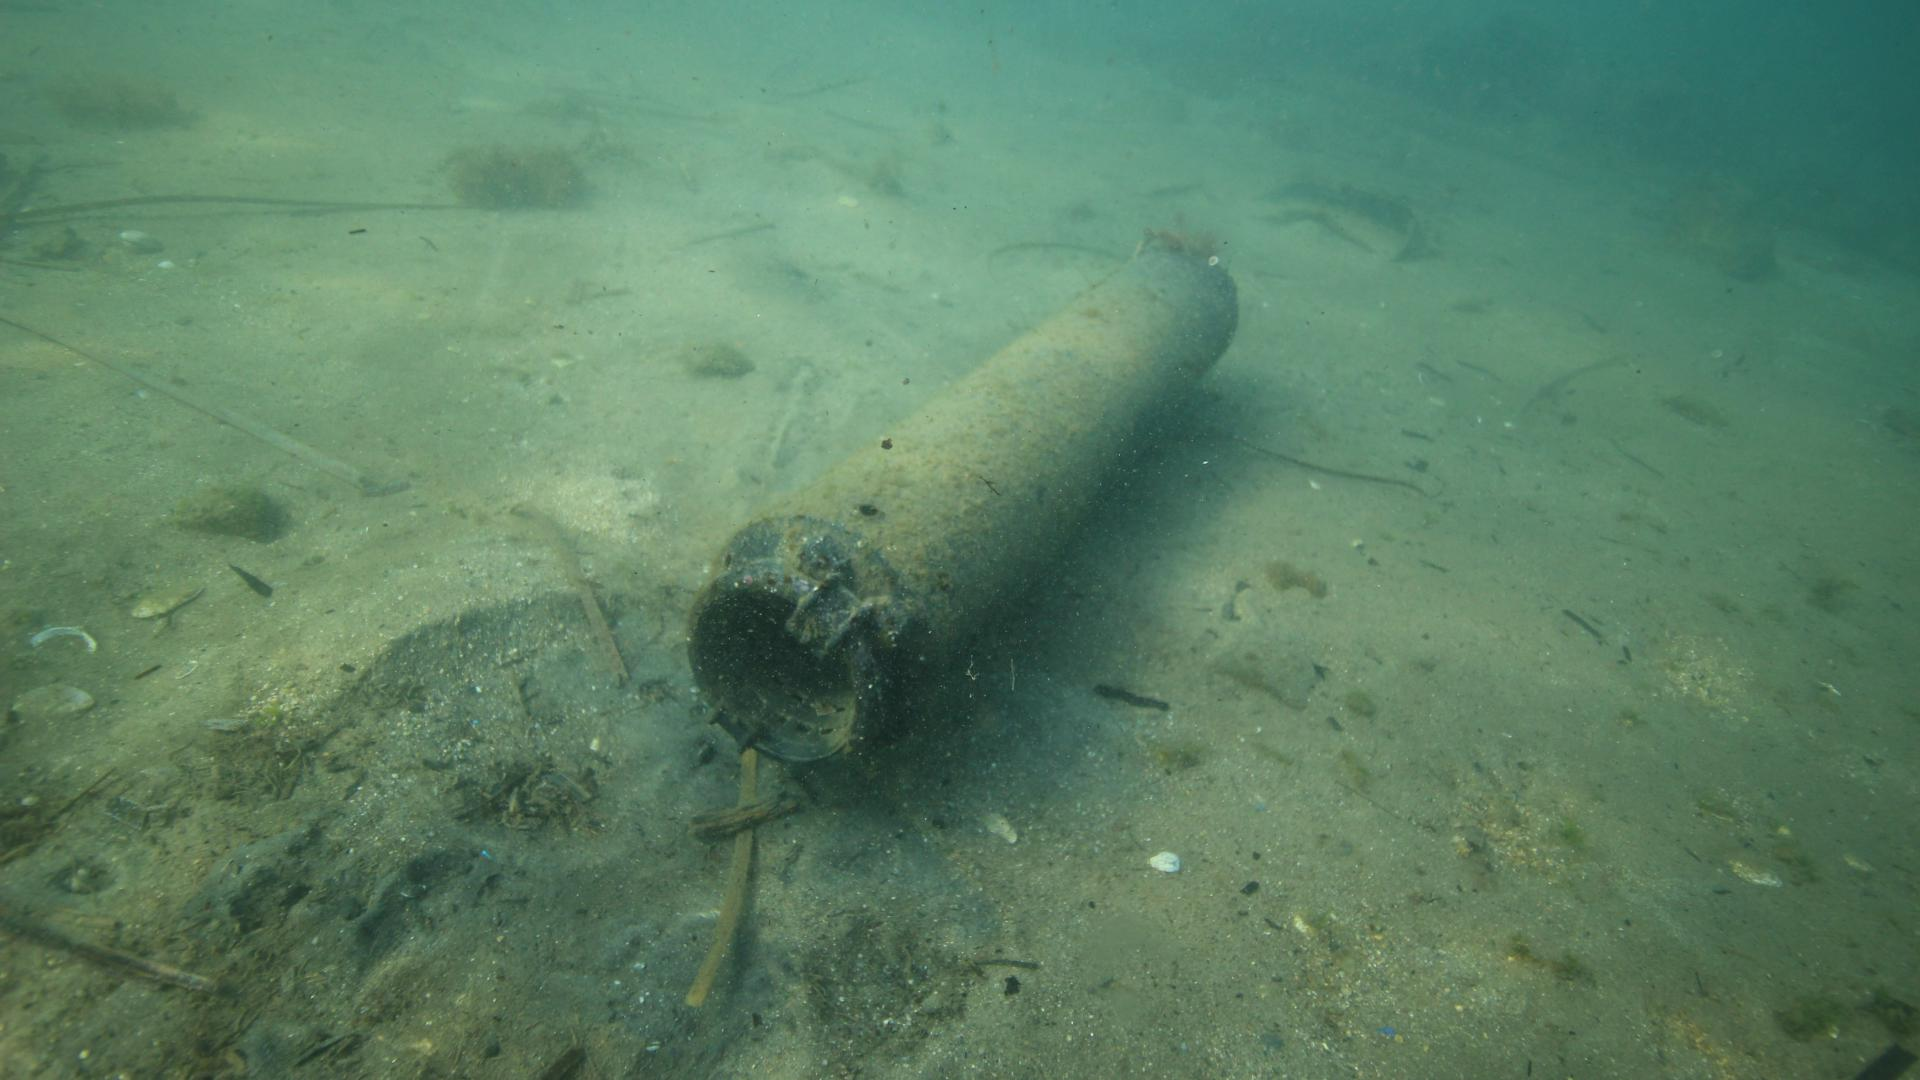eel fish trap: (680, 247, 1244, 770)
